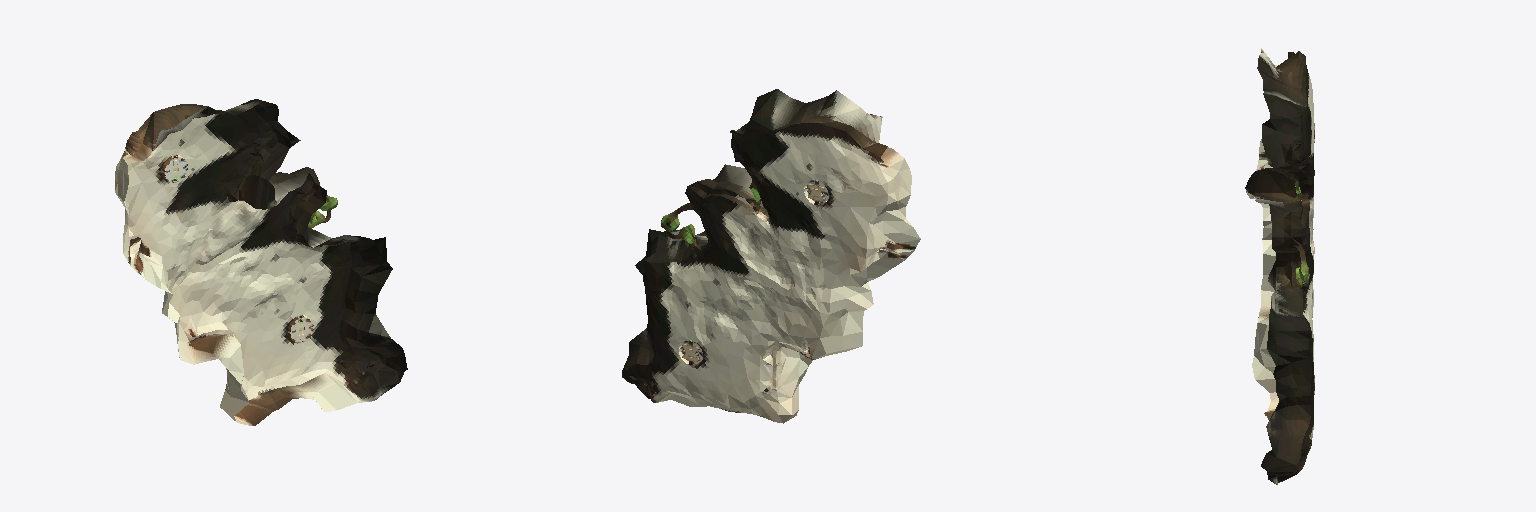
3 renders of one model, left to right at view 1: azimuth 30°, elevation 25°; view 2: azimuth 150°, elevation 25°; view 3: azimuth 270°, elevation 25°, orthographic.
Visible parts, largest first — view 1: bloodgulch_Lightmap_1, bloodgulch_Lightmap_0, bloodgulch_Lightmap_4; view 2: bloodgulch_Lightmap_1, bloodgulch_Lightmap_0; view 3: bloodgulch_Lightmap_0, bloodgulch_Lightmap_1, bloodgulch_Lightmap_4.
Part boxes in pixels (x1,y1,x2,y2): bloodgulch_Lightmap_1: (126, 110, 407, 399); bloodgulch_Lightmap_0: (115, 99, 403, 425); bloodgulch_Lightmap_4: (291, 167, 326, 213); bloodgulch_Lightmap_1: (622, 123, 881, 421); bloodgulch_Lightmap_0: (622, 89, 920, 423); bloodgulch_Lightmap_0: (1245, 48, 1311, 484); bloodgulch_Lightmap_1: (1261, 65, 1314, 473); bloodgulch_Lightmap_4: (1272, 219, 1309, 252).
Bounding box in the file's own units: 12600 × 14516 × 2658.
Materials: 15 (15 with a texture image).